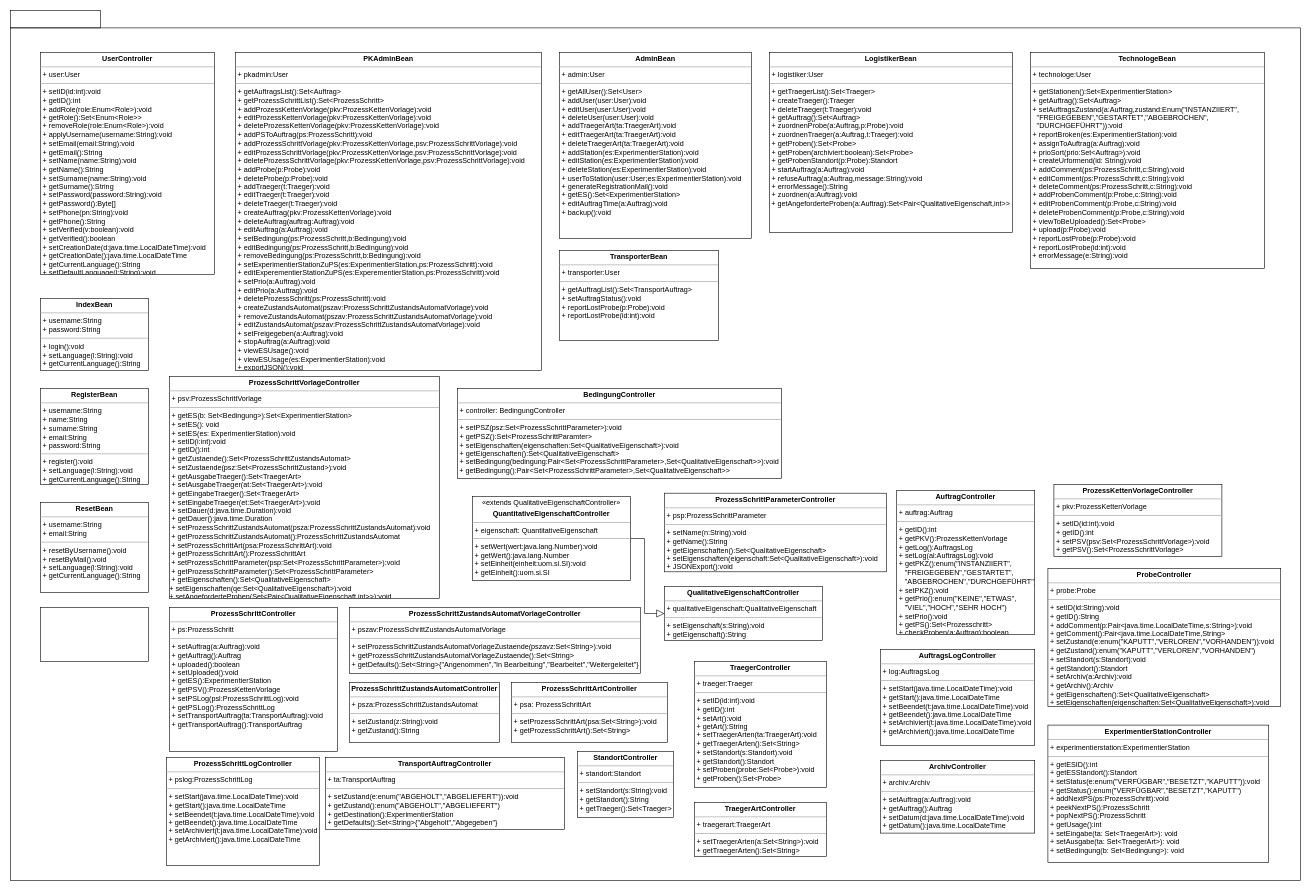
The diagram is 1311 pixels wide and 891 high, and some of its shapes have lost their labels. Here are the shapes that lost their labels. From the top down, the centre of each, then its label:
point (55, 19): Controller
point (94, 634): LoggedInBean + user:User + setView():void + logout():void
